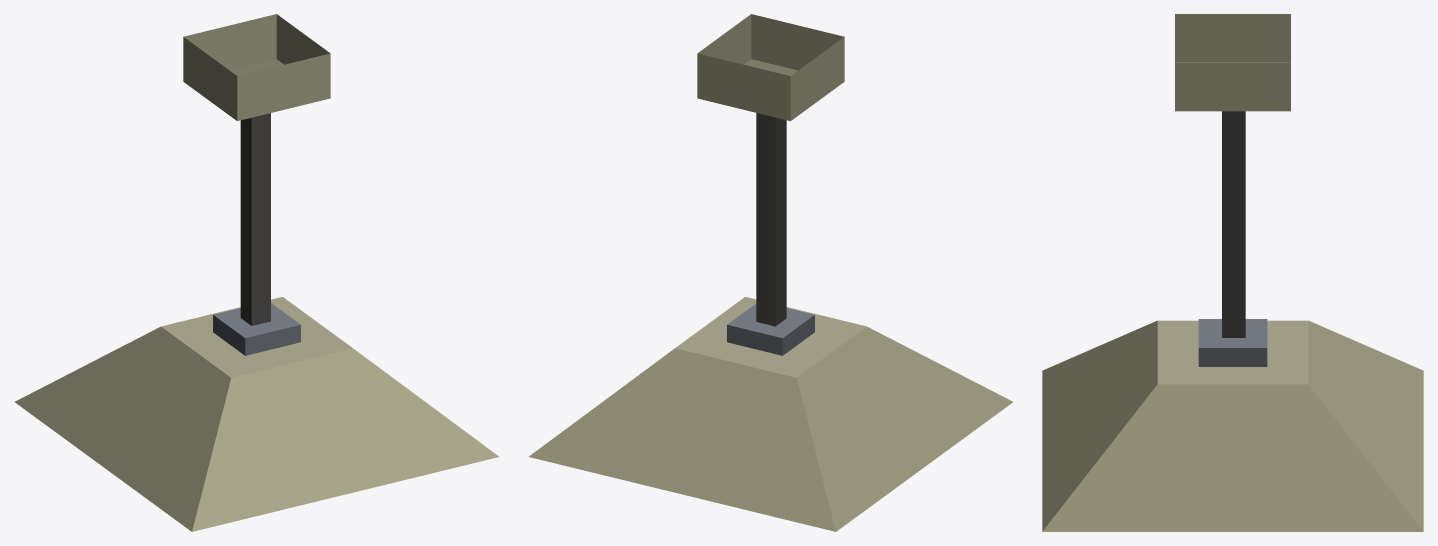
File: AI_Env_Lightbulb_Covered.fbx
3 views of the same model, side by side, from view 1: azimuth 30°, elevation 25°; view 2: azimuth 150°, elevation 25°; view 3: azimuth 270°, elevation 25° (orthographic). The views are drawn at different scales.
Parts seen in each view (by area): view 1: AI_Env_Lightbulb_Covered; view 2: AI_Env_Lightbulb_Covered; view 3: AI_Env_Lightbulb_Covered.
Boxes of the visible parts, <box> form: AI_Env_Lightbulb_Covered: <box>15,14,499,531</box>; AI_Env_Lightbulb_Covered: <box>528,14,1012,531</box>; AI_Env_Lightbulb_Covered: <box>1042,14,1423,531</box>.
Bounding box in the file's own units: 0.7454 × 1.03 × 0.7454.
